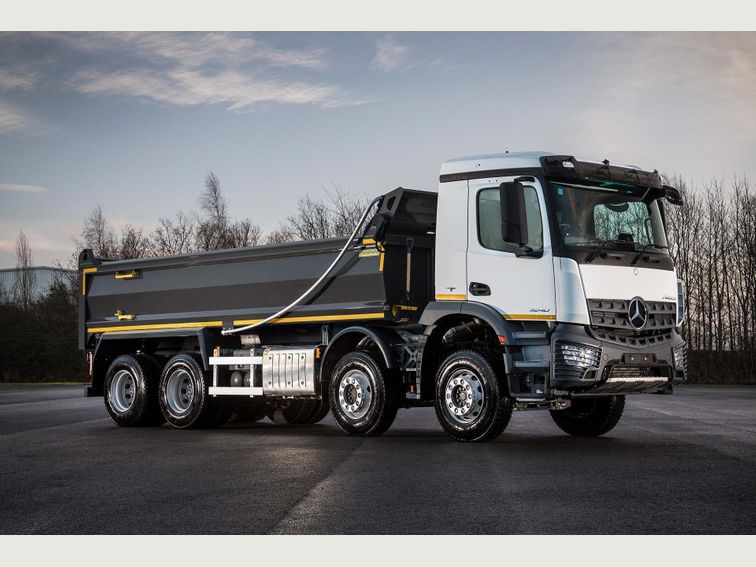Semi: (78, 151, 687, 441)
